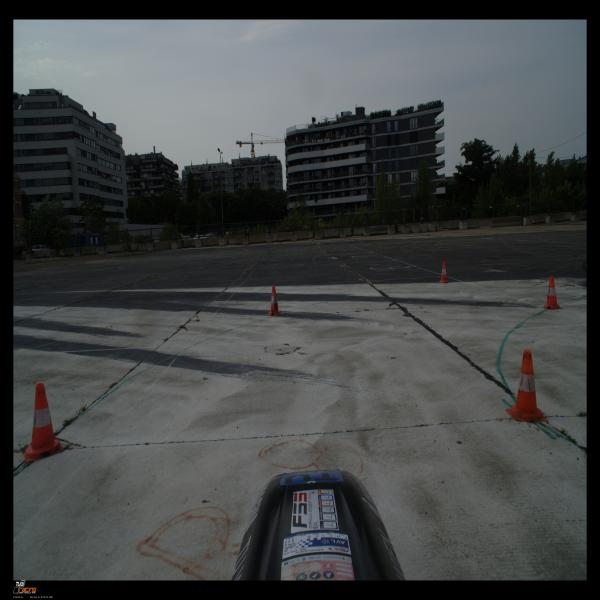orange_cone: (22, 383, 64, 462), (505, 350, 548, 422), (541, 276, 563, 310), (266, 286, 283, 316), (438, 262, 448, 284)
